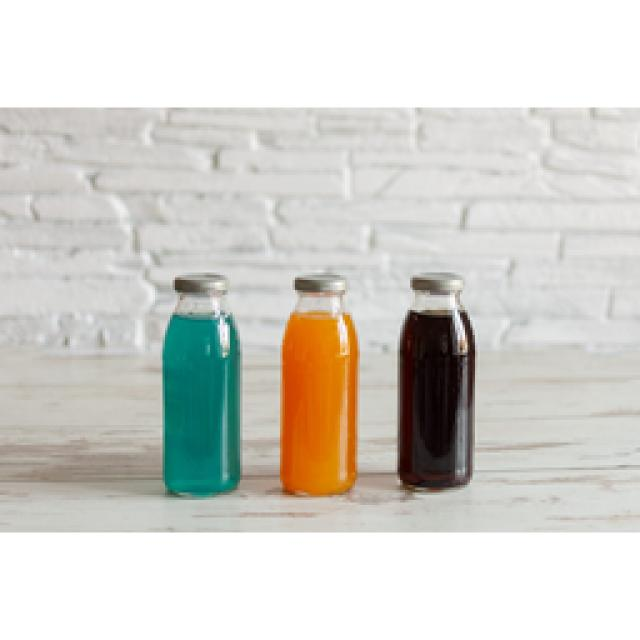glass_beverage_bottles: (165, 265, 238, 495), (286, 273, 352, 497), (400, 273, 468, 485)
